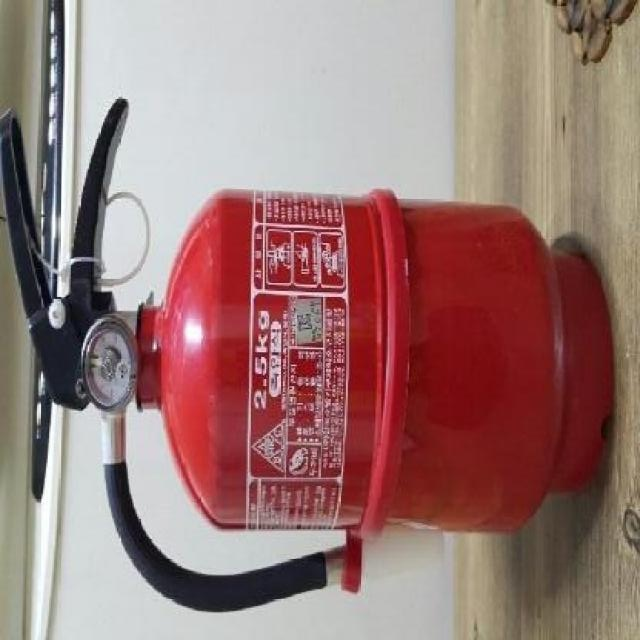fire extinguisher: (0, 96, 611, 613)
